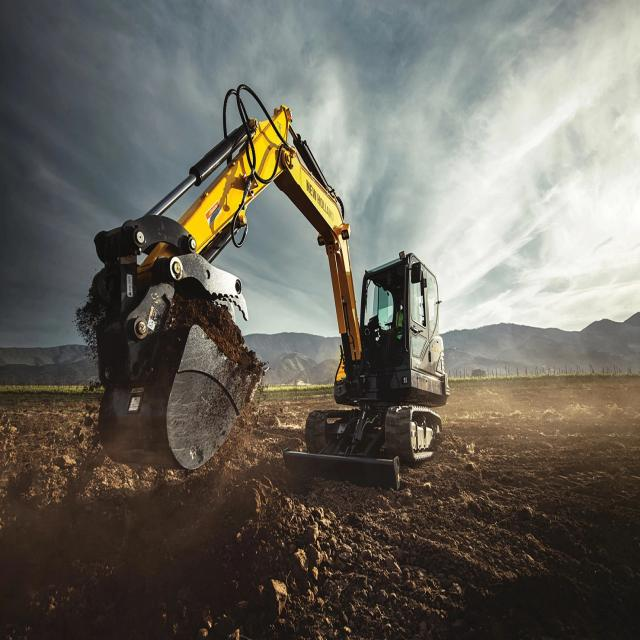excavator: (88, 83, 451, 491)
